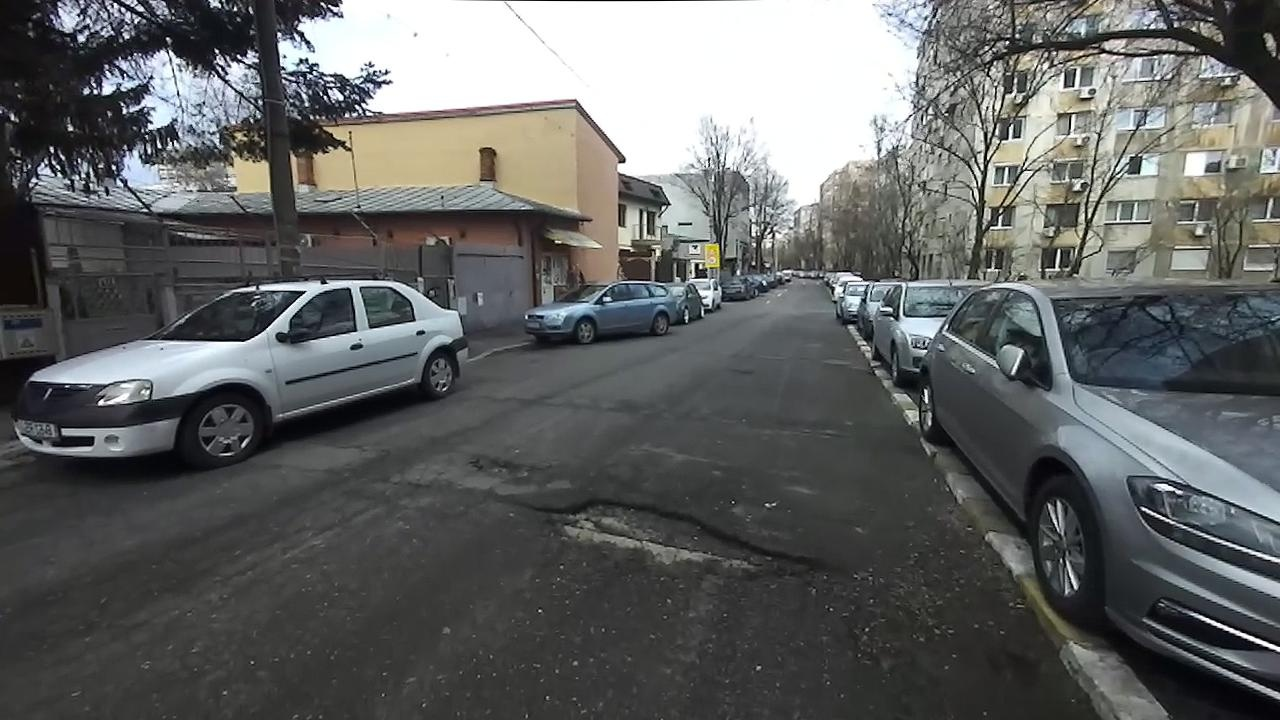pothole: (499, 494, 829, 586), (461, 450, 541, 482)
